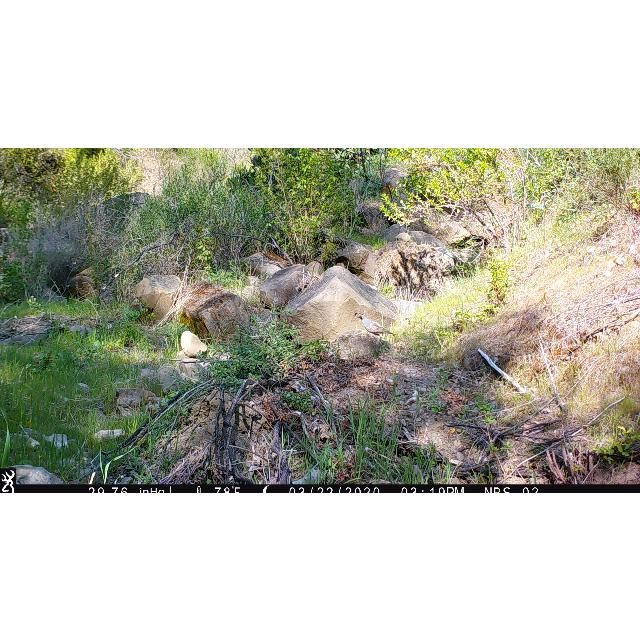animals: (355, 309, 397, 337)
